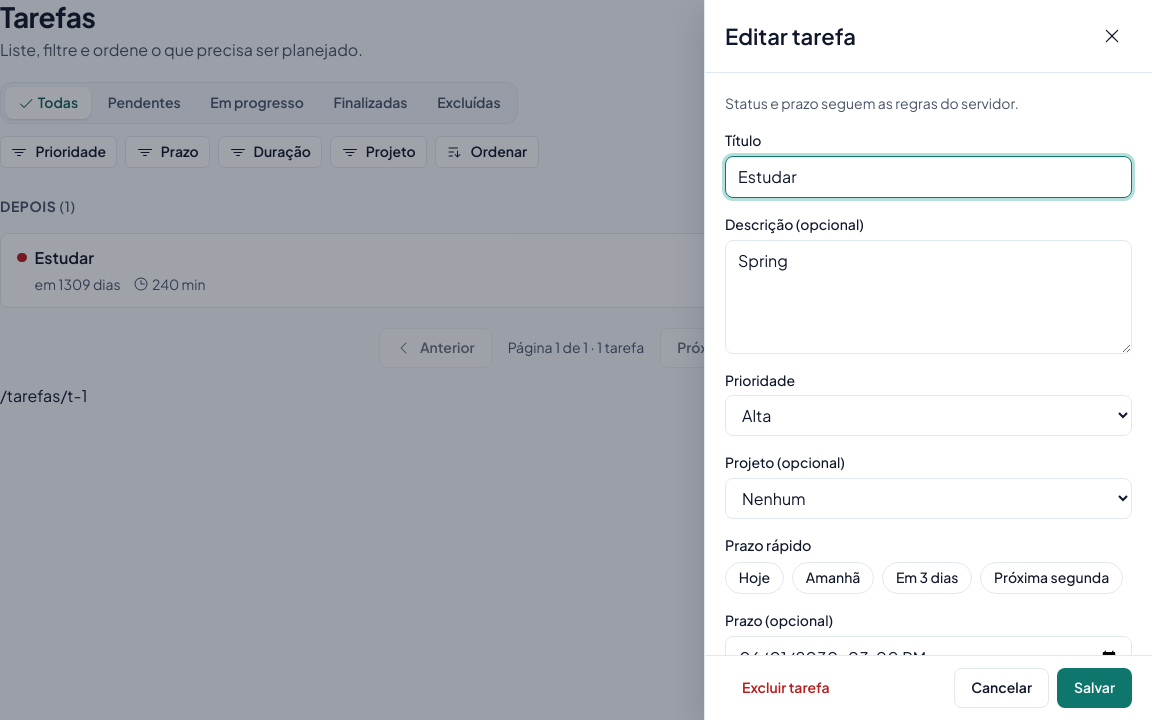
TarefaDrawer › salvar e criar › T5: salvar edição atualiza o item na lista antes da leitura silenciosa, sem skeleton
Replace the text in the field labelled "Título" with "Estudar mais" at (928, 177), box top-left (725, 156), bottom-right (1132, 198)
(page scrolled)
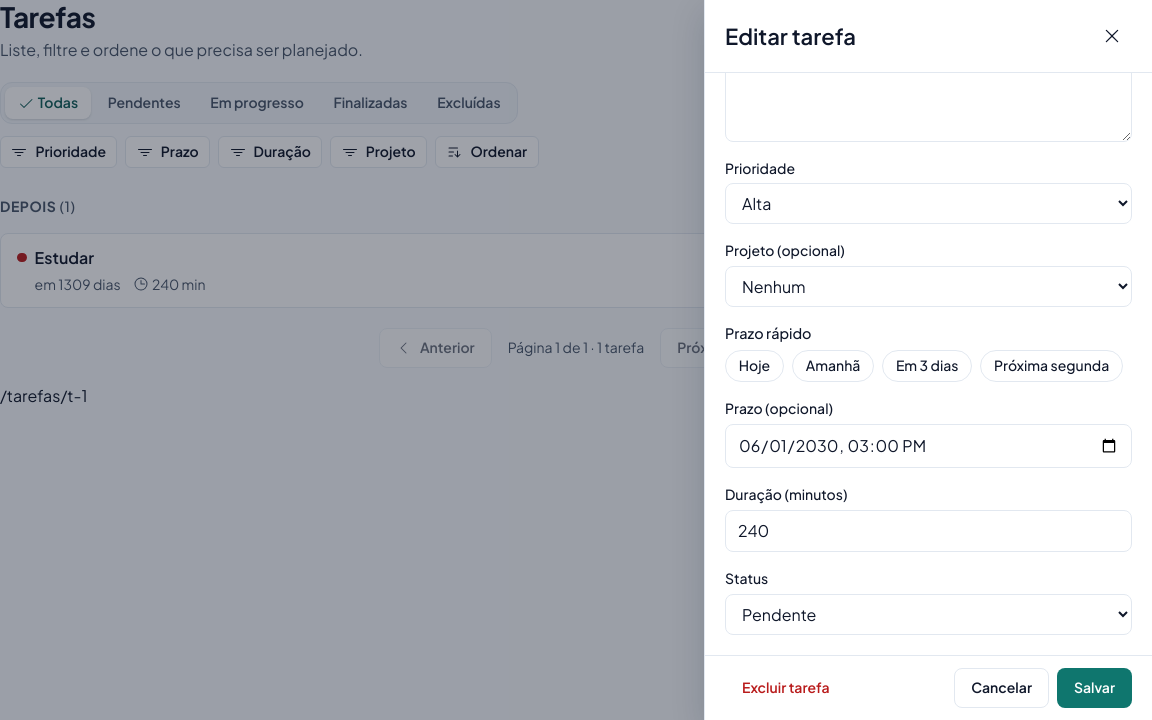
Select "Em progresso" in the dropdown labelled "Status" at (928, 614), box top-left (725, 594), bottom-right (1132, 635)
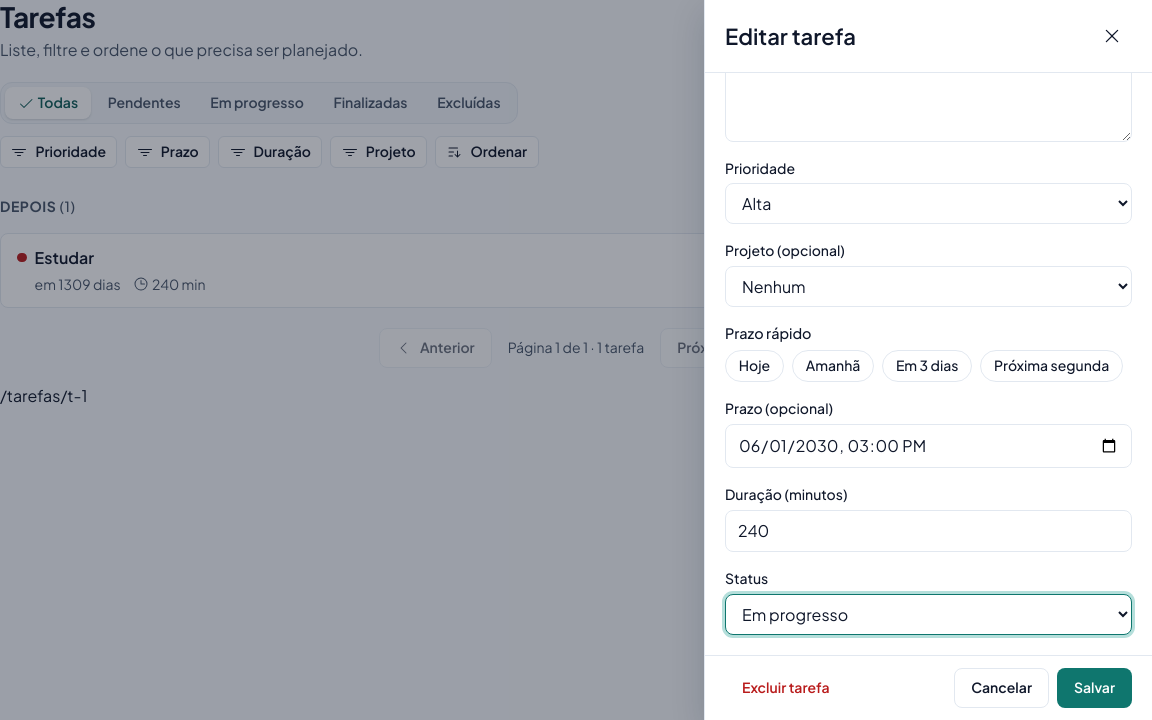
Click the button "Salvar" at (1094, 688), box top-left (1057, 668), bottom-right (1132, 708)
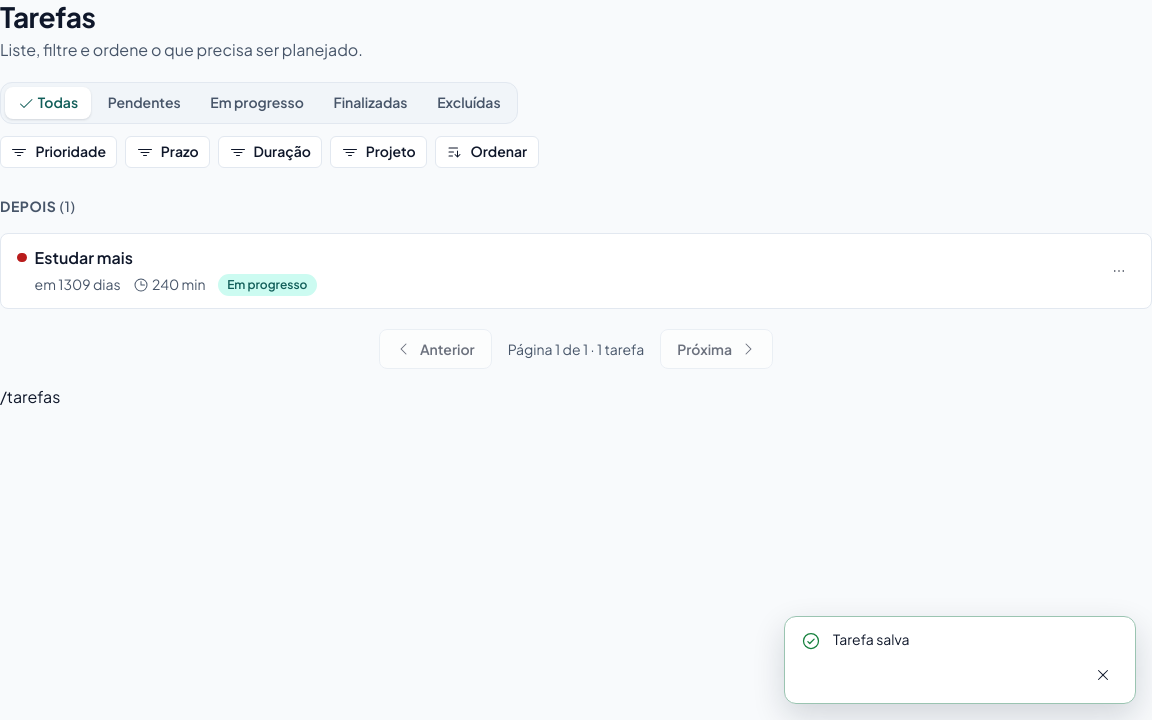
Now the heading "Editar tarefa" is gone
Now the text "Estudar mais" is shown, box top-left (35, 246), bottom-right (133, 270)
Now the text "Tarefa salva" is shown, box top-left (833, 630), bottom-right (910, 648)
